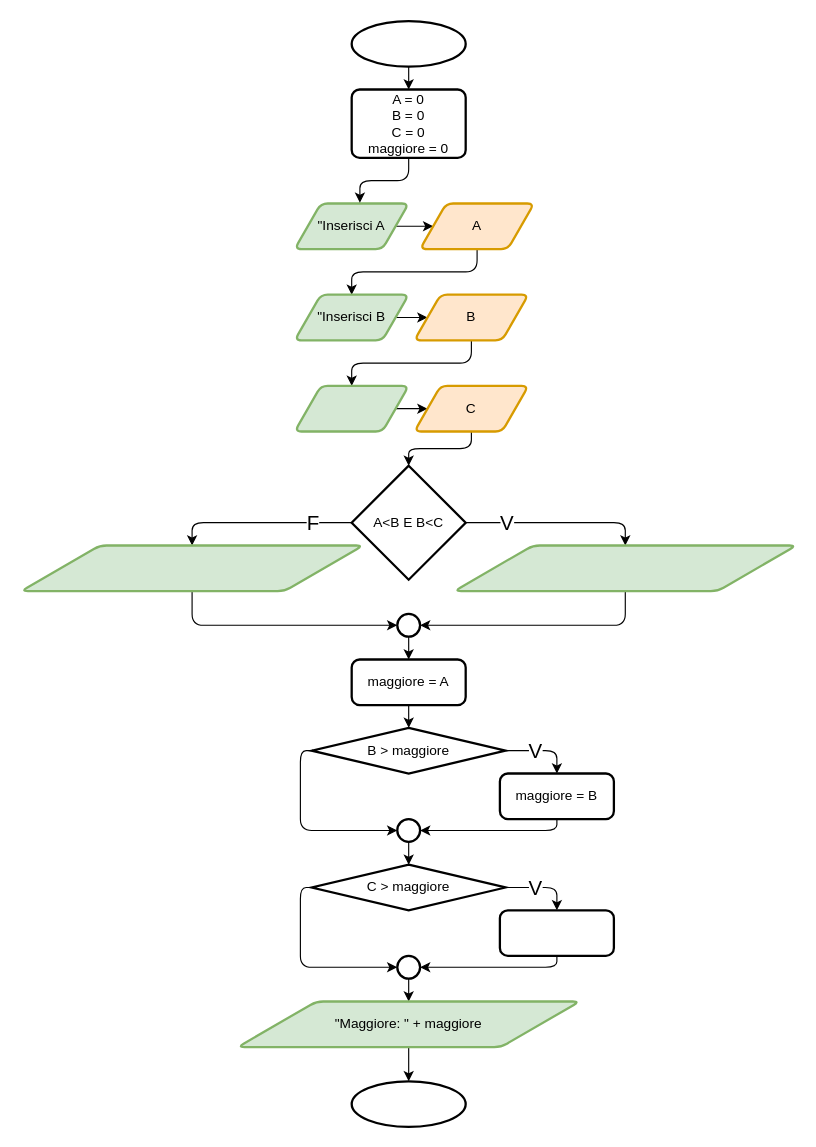
The diagram is 816 pixels wide and 1147 high, and some of its shapes have lost their labels. The centre of each missing label's shape, as x and y in pixels:
"I valori non sono in ordine crescente.: [191,568]
"I valori sono in ordine crescente.: [625,568]
"Inserisci C: [351,408]
fine: [408,1103]
inizio: [408,43]
maggiore = C: [556,932]
